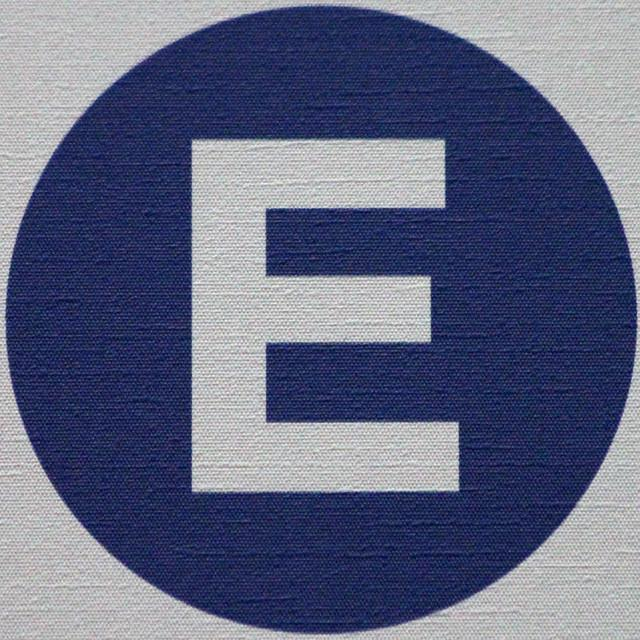E: (165, 98, 482, 546)
